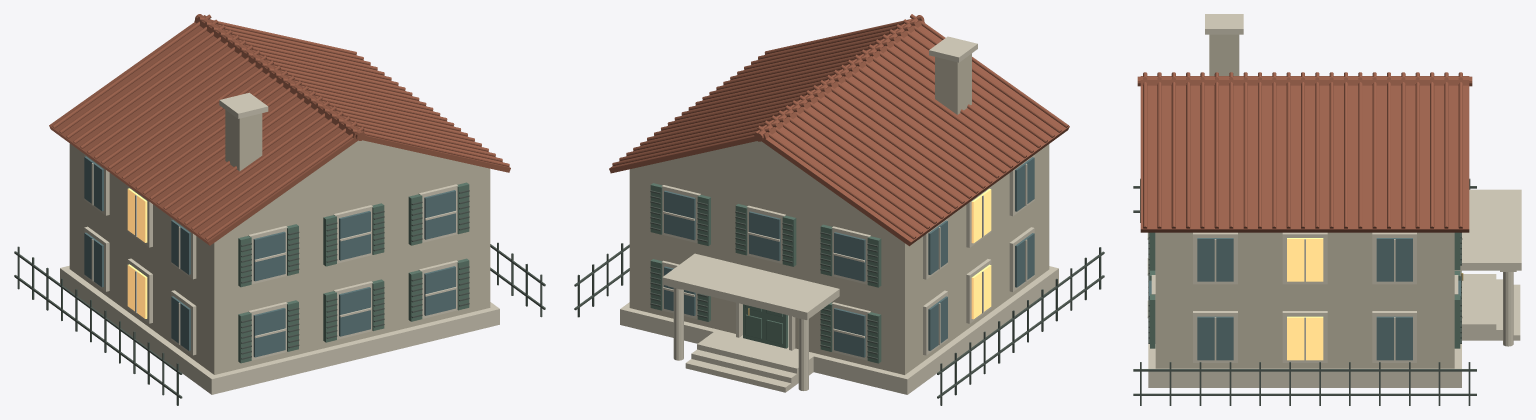
The model's file is villa.glb.
3 views of the same model, side by side, from view 1: azimuth 30°, elevation 25°; view 2: azimuth 150°, elevation 25°; view 3: azimuth 270°, elevation 25° (orthographic). The views are drawn at different scales.
Visible parts, largest first — view 1: pitched tiled roof, stucco residence wing, estate foundation, estate window, louvered shutter, shutter slat, side glazing.002; view 2: pitched tiled roof, stucco residence wing, estate foundation, estate window, shutter slat, louvered shutter, side glazing.002, estate oak door; view 3: pitched tiled roof, stucco residence wing, estate foundation, estate window, shutter slat, side glazing.002, louvered shutter.
Part boxes in pixels (x1,y1,x2,y2): pitched tiled roof: (49, 14, 510, 245); stucco residence wing: (69, 110, 490, 374); estate foundation: (60, 92, 499, 394); estate window: (84, 156, 455, 357); louvered shutter: (238, 182, 469, 363); shutter slat: (14, 190, 545, 405); side glazing.002: (127, 188, 147, 318); pitched tiled roof: (609, 14, 1069, 246); stucco residence wing: (629, 53, 1049, 374); estate foundation: (620, 36, 1058, 394); estate window: (664, 157, 1034, 357); shutter slat: (574, 190, 1104, 405); louvered shutter: (650, 183, 881, 363); side glazing.002: (971, 189, 991, 319); estate oak door: (743, 304, 788, 348); pitched tiled roof: (1137, 72, 1472, 232); stucco residence wing: (1155, 34, 1454, 368); estate foundation: (1147, 14, 1521, 387); estate window: (1149, 238, 1460, 360); shutter slat: (1133, 178, 1476, 405); side glazing.002: (1287, 238, 1323, 360); louvered shutter: (1150, 232, 1460, 348).
Size of the model in its own units: 14.57 by 9.45 by 13.
